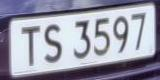3: (71, 12, 94, 66)
5: (91, 9, 113, 63)
7: (130, 8, 149, 57)
9: (111, 8, 132, 61)
S: (42, 16, 66, 70)
T: (18, 18, 44, 73)
